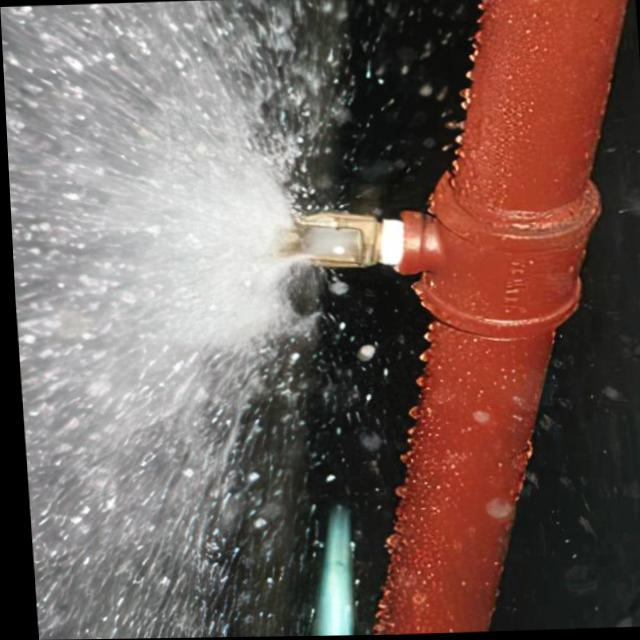leak: (0, 0, 345, 640)
